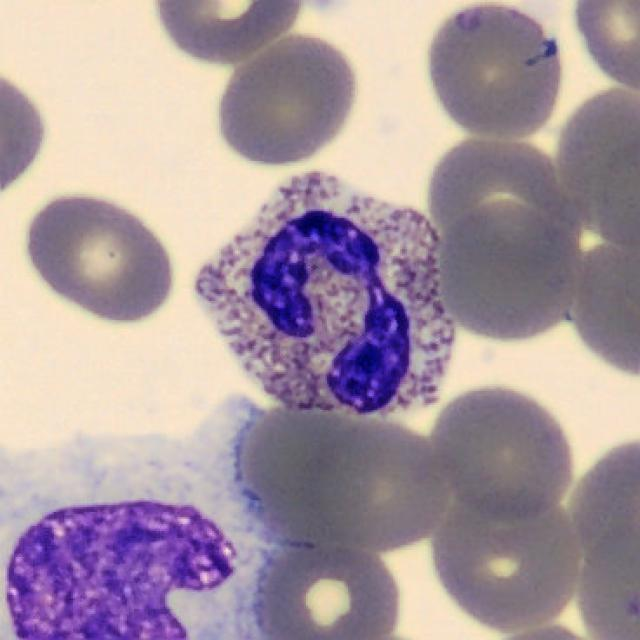Neutrofilo segmentado: (195, 175, 454, 419)
